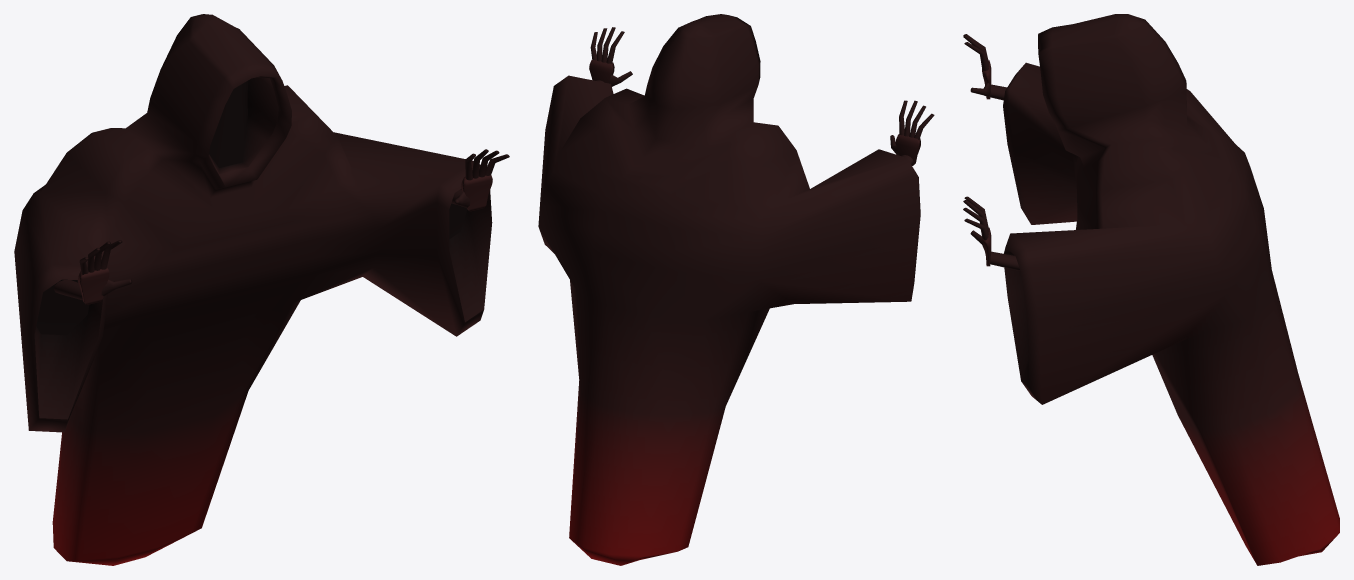
Rendered from Ghost_SM.fbx.
The picture shows the model from 3 angles, left to right: view 1: azimuth 30°, elevation 25°; view 2: azimuth 150°, elevation 25°; view 3: azimuth 270°, elevation 25°; orthographic projection. The views are drawn at different scales.
Parts seen in each view (by area): view 1: polySurface26; view 2: polySurface26; view 3: polySurface26.
Part boxes in pixels (x1,y1,x2,y2): polySurface26: (14, 14, 509, 565); polySurface26: (538, 14, 934, 565); polySurface26: (963, 14, 1339, 565).
Bounding box in the file's own units: 105 × 129 × 82.11.
